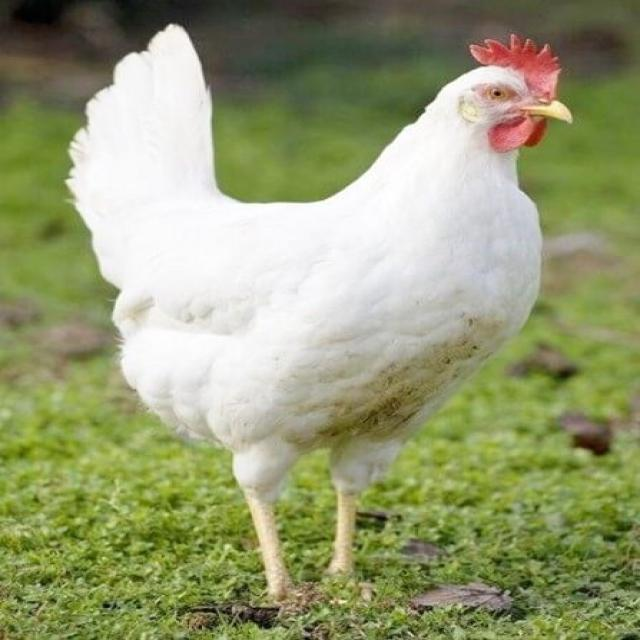Chicken: (63, 7, 575, 622)
